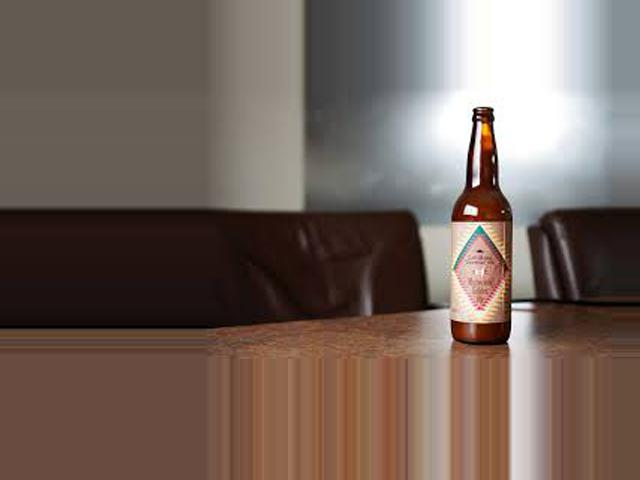beer: (453, 108, 511, 344)
